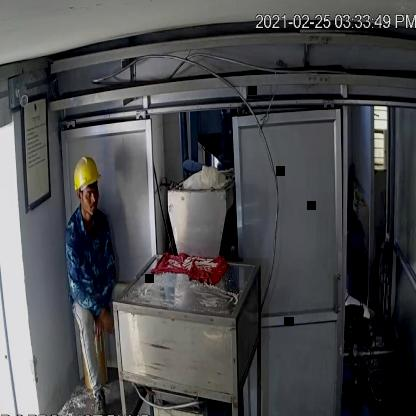helmet: (72, 155, 104, 197)
